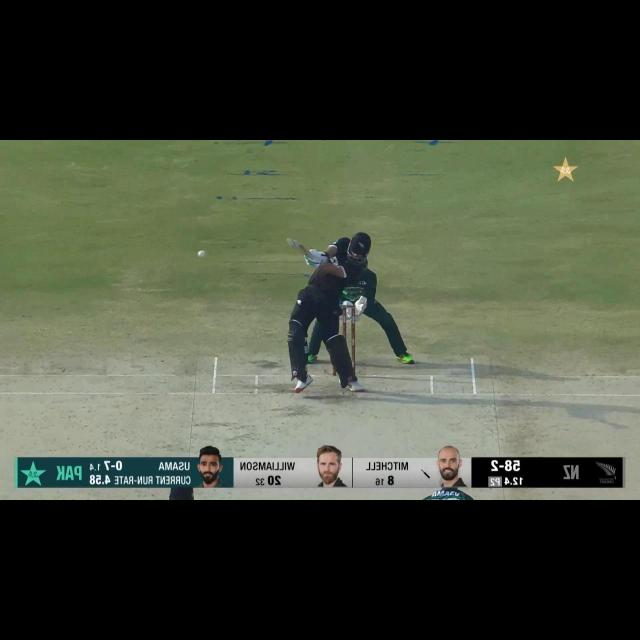bat: (285, 236, 315, 259)
toe: (285, 236, 296, 249)
